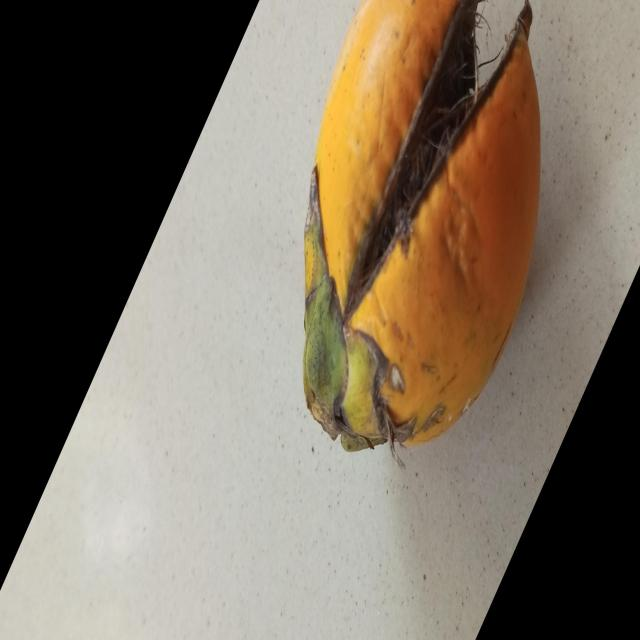damaged: (303, 0, 543, 453)
